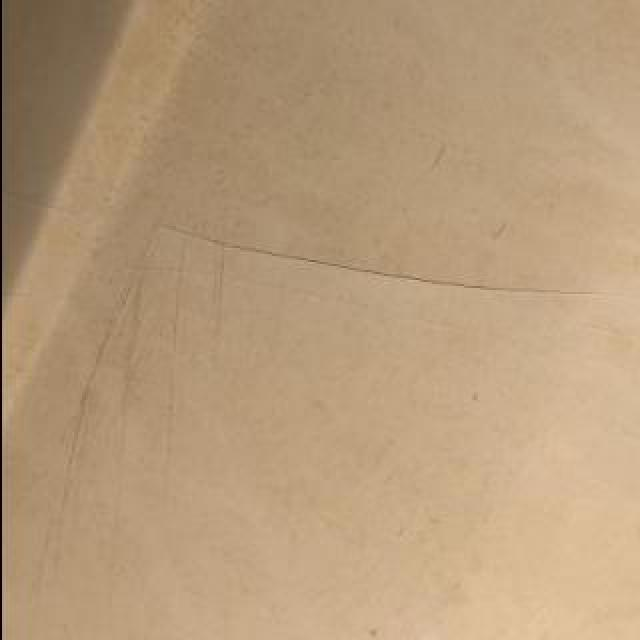crack: (150, 223, 604, 301)
